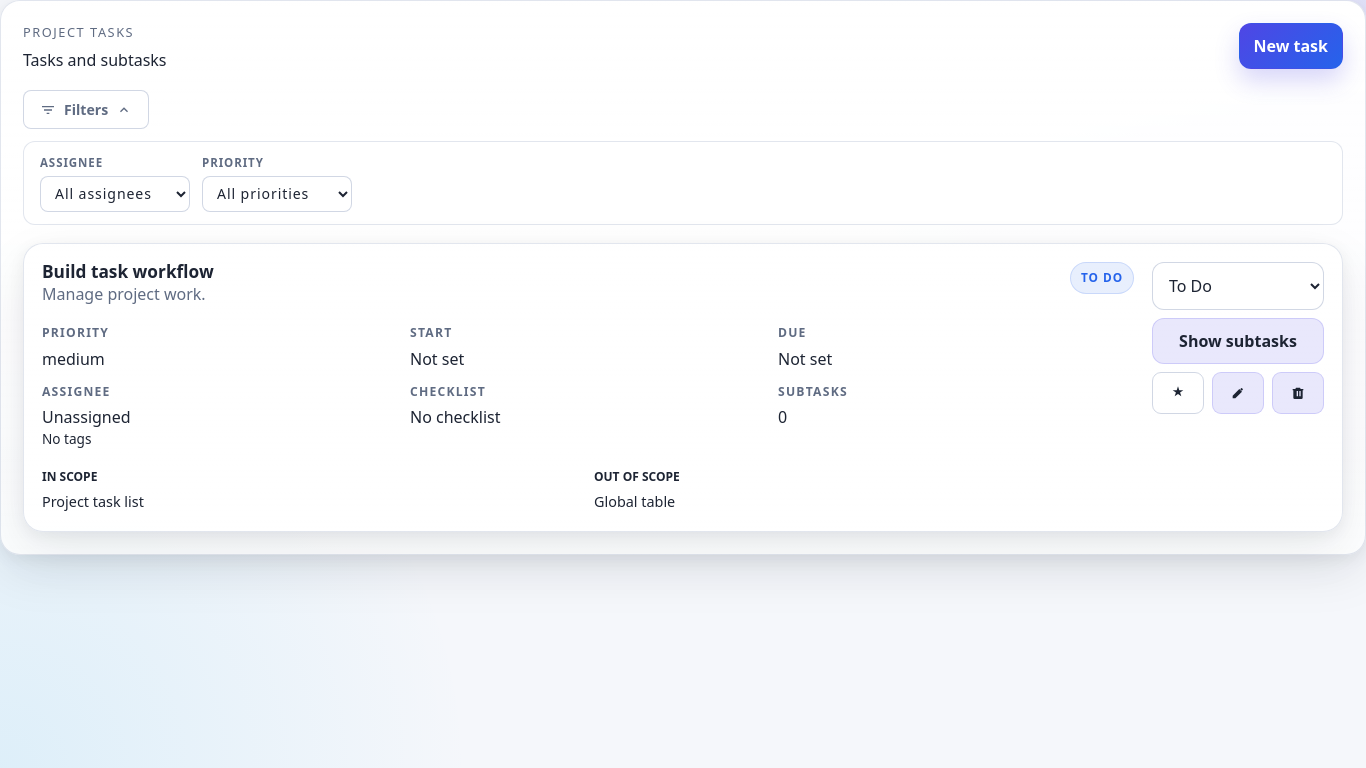
Scenario: ProjectTasksPanel top-level layout › shows the AI priority not-configured state with navigation to settings
Expected: the heading "Build task workflow" is shown, x1=42 y1=262 x2=214 y2=282
Click the button named "Suggest priority" at (1178, 393), box x1=1152 y1=372 x2=1204 y2=414
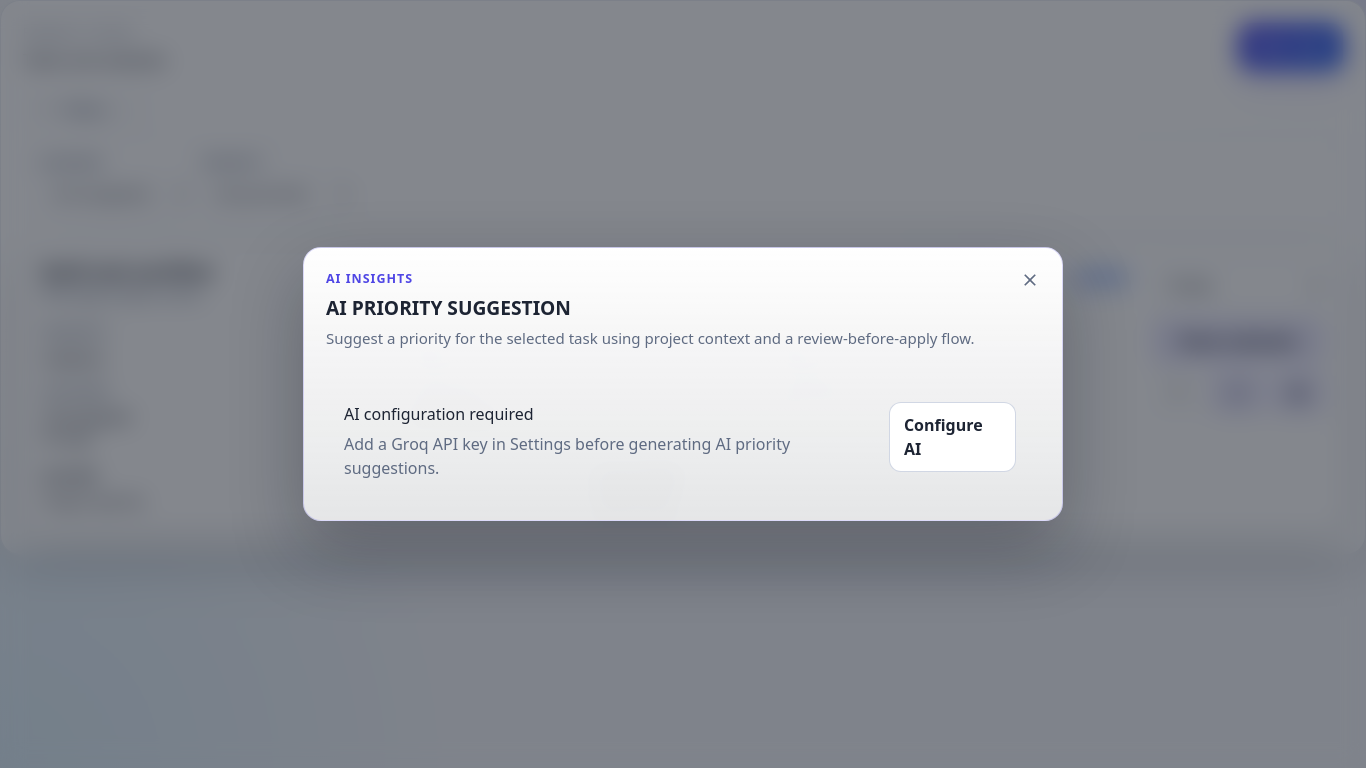
Now the heading "AI configuration required" is shown, box x1=344 y1=403 x2=534 y2=425
Now the link "Configure AI" is shown, box x1=889 y1=402 x2=1016 y2=472
